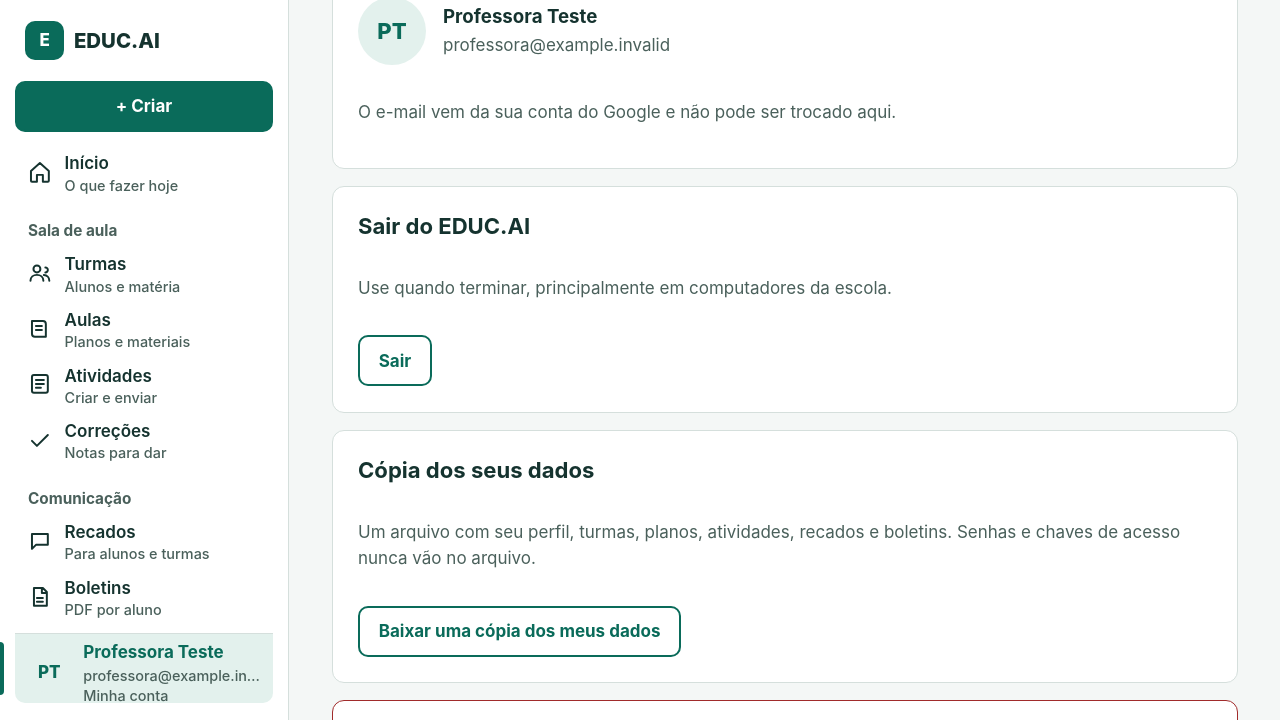
Google authentication screen › logs out from the account page without sending a professor identifier
(page scrolled)
What coordinates should you click on to do the following:
click the button "Sair"
I would click on:
 (395, 361)
Its box is x1=358 y1=335 x2=432 y2=386.
(page scrolled)
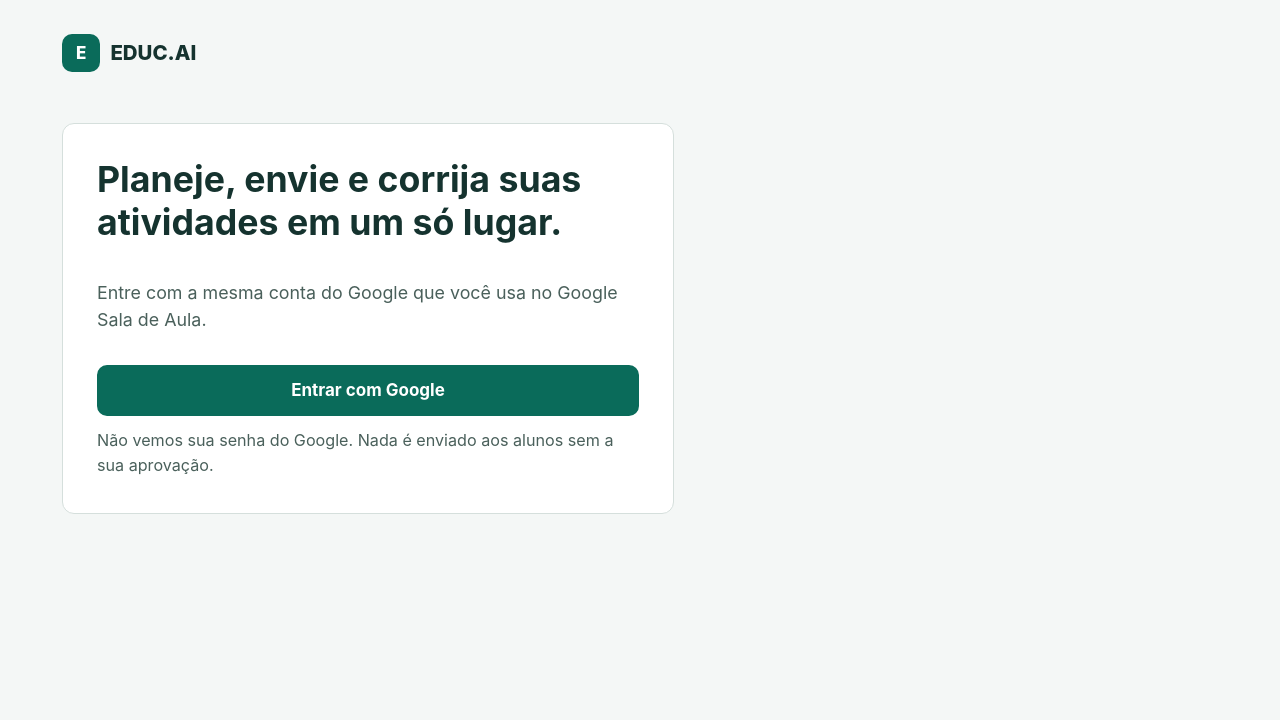
Now the link "Entrar com Google" is shown, box x1=97 y1=365 x2=639 y2=416
